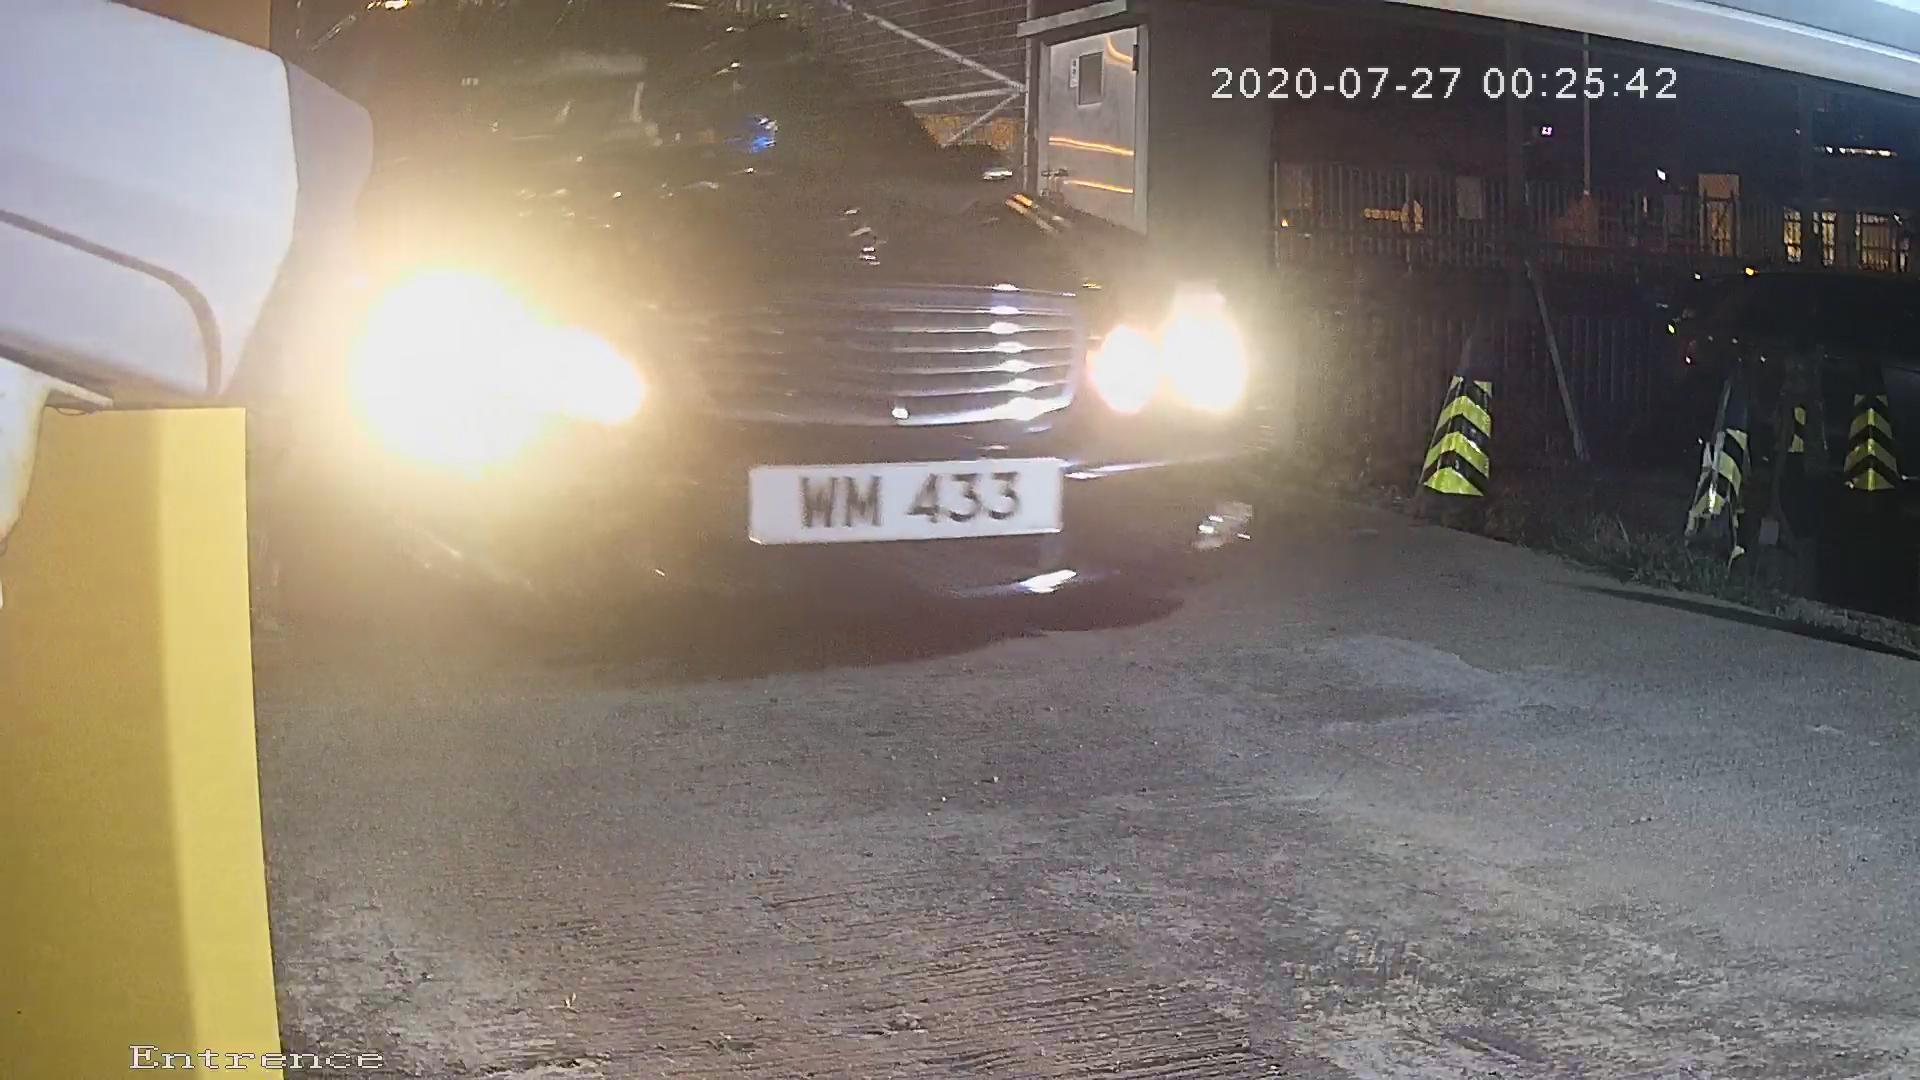License Plate: (695, 439, 1098, 550)
